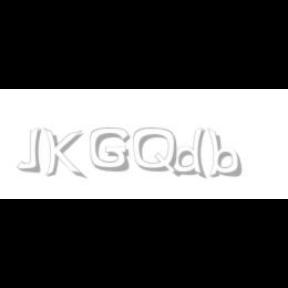G: (90, 128, 130, 172)
J: (16, 128, 42, 172)
K: (43, 128, 83, 180)
Q: (133, 128, 179, 178)
b: (207, 128, 245, 178)
d: (174, 128, 210, 180)
